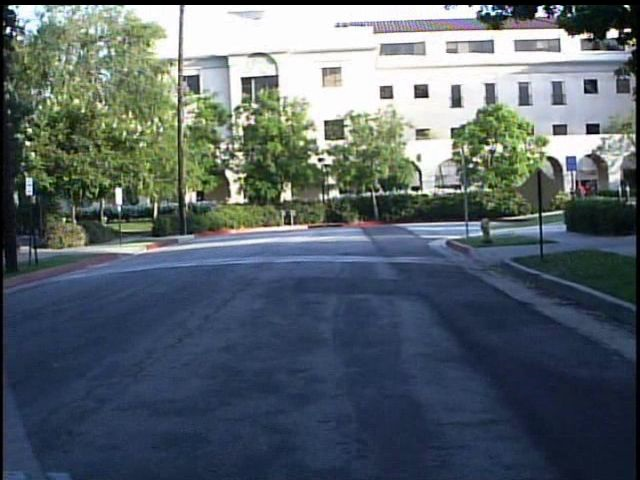person: (571, 178, 591, 222)
